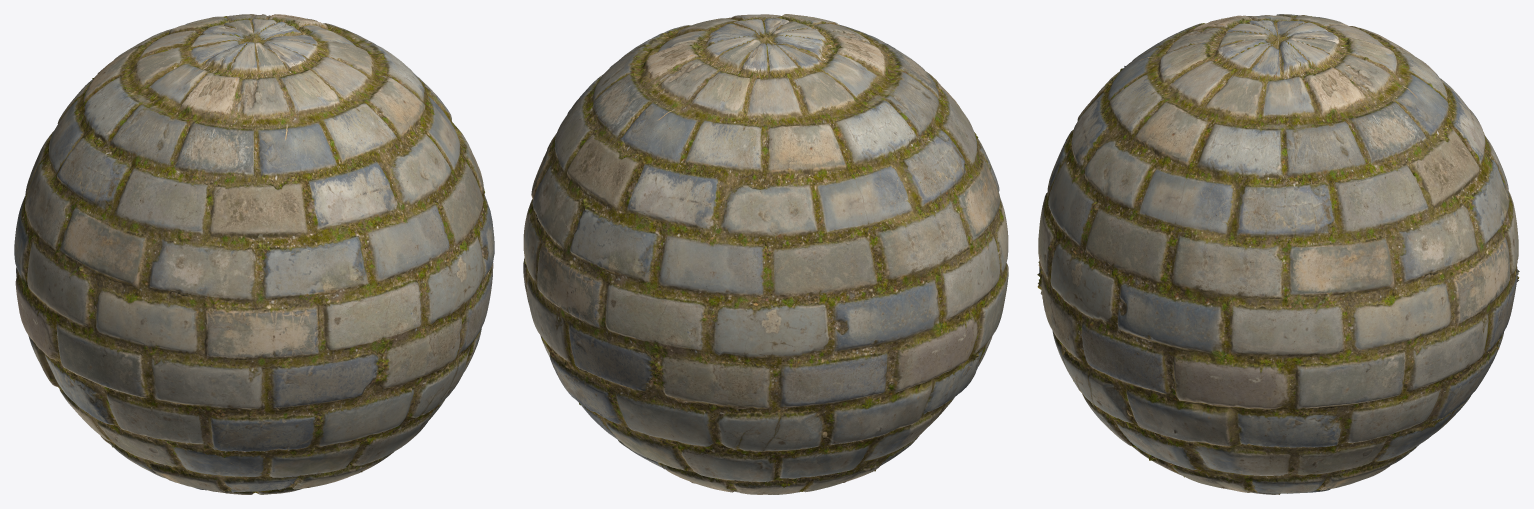
File: blue_floor_tiles_01_2k.gltf
3 renders of one model, left to right at view 1: azimuth 30°, elevation 25°; view 2: azimuth 150°, elevation 25°; view 3: azimuth 270°, elevation 25°, orthographic.
Visible parts, largest first — view 1: sphere_gltf; view 2: sphere_gltf; view 3: sphere_gltf.
Boxes of the visible parts, x1,y1,x2,y2 form: sphere_gltf: (14, 14, 494, 494); sphere_gltf: (523, 14, 1008, 494); sphere_gltf: (1037, 14, 1519, 494).
Size of the model in its own units: 2.04 by 2.04 by 2.03.
Materials: 1 (1 with a texture image).
